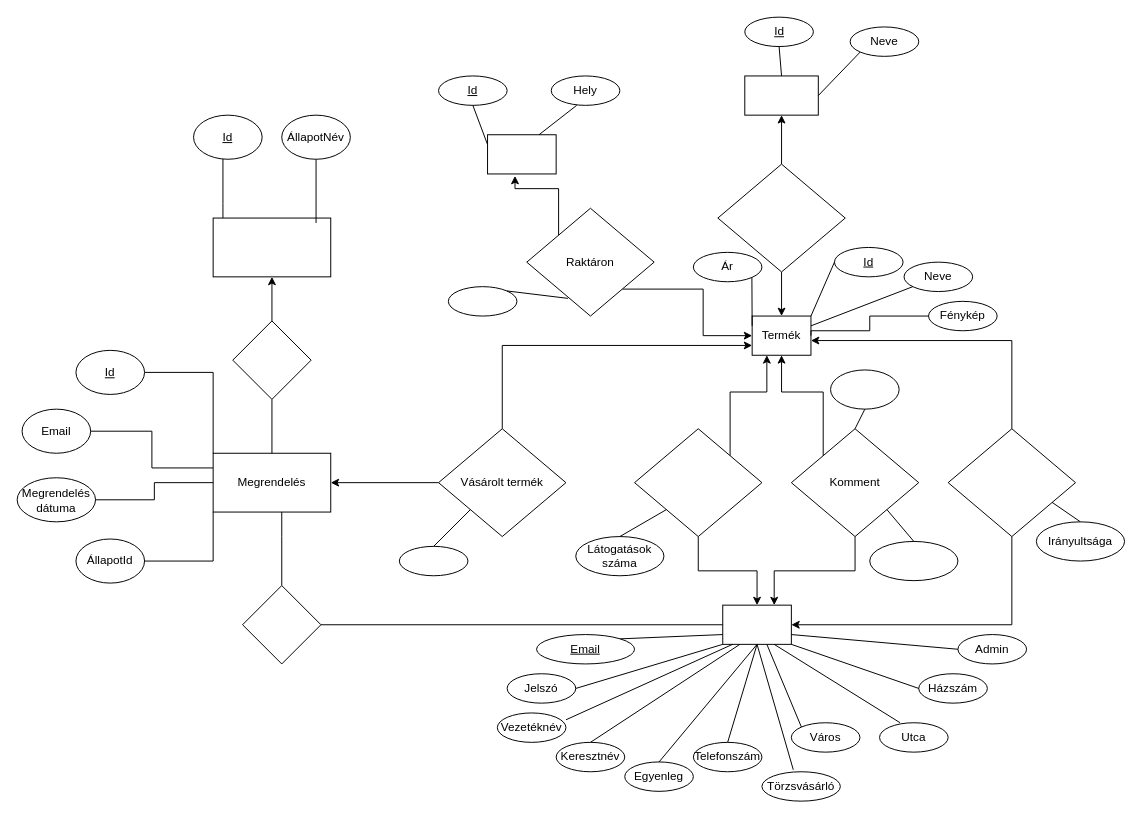
Some shapes in this 1142 by 818 pixel diagram are drawn without their labels. The centre of each missing label's shape, as x and y in pixels:
Darabszám: pixel 482 301
Felhasználó: pixel 756 624
Időpontja: pixel 913 560
Látogatott termék: pixel 698 482
Mennyiség: pixel 433 560
Raktár: pixel 521 154
Rendelés: pixel 281 624
Tartalom: pixel 864 389
TermékKategória: pixel 781 217
Véleménynyilvánítás: pixel 1011 482
Állapot: pixel 271 247
Állapota: pixel 271 359
Árukategória: pixel 781 95
